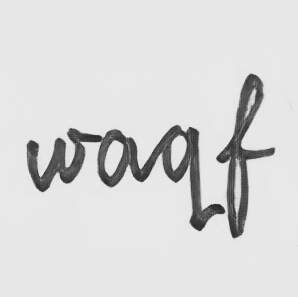a: (94, 127, 140, 191)
f: (221, 71, 266, 241)
q: (158, 122, 214, 233)
w: (23, 128, 88, 193)
